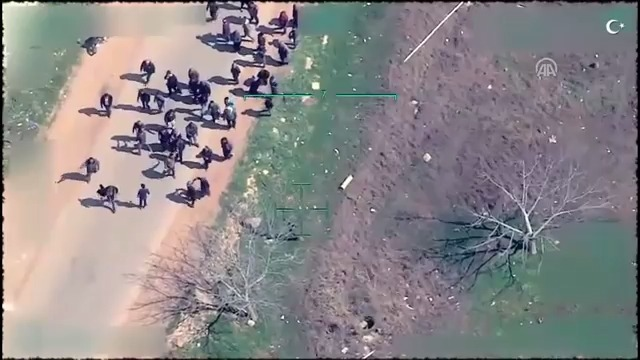insan: (93, 182, 123, 213), (99, 85, 118, 117), (196, 142, 215, 172), (205, 95, 224, 125), (185, 117, 202, 149), (273, 39, 293, 66), (82, 151, 99, 182), (134, 87, 154, 113), (217, 14, 234, 44), (161, 150, 178, 179), (140, 55, 156, 85), (228, 55, 243, 86), (218, 134, 237, 158), (261, 92, 280, 115), (183, 179, 197, 210), (165, 66, 179, 96), (134, 181, 150, 207)
